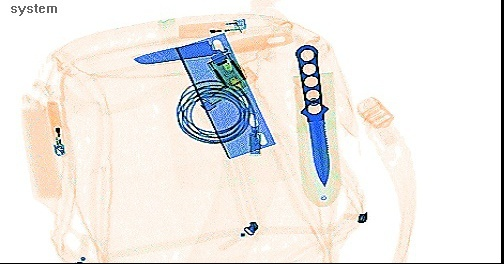knife: (129, 28, 293, 66), (294, 42, 330, 188)
lighter: (172, 16, 247, 40), (43, 98, 66, 157)
